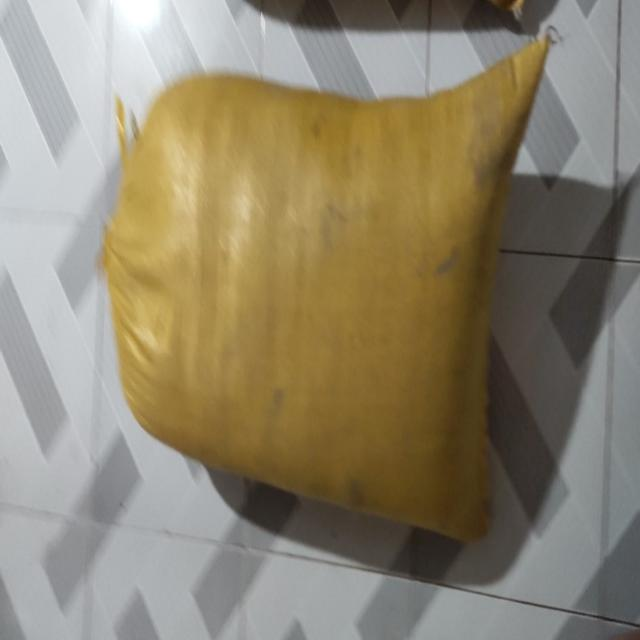gunny_bag: (103, 37, 551, 540)
